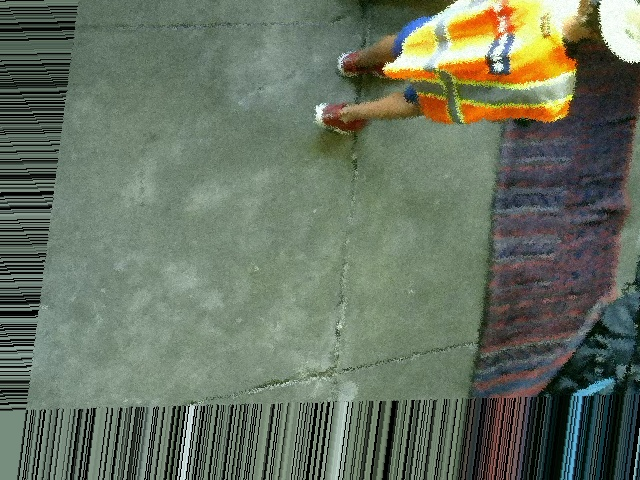eight: (631, 0, 639, 11)
